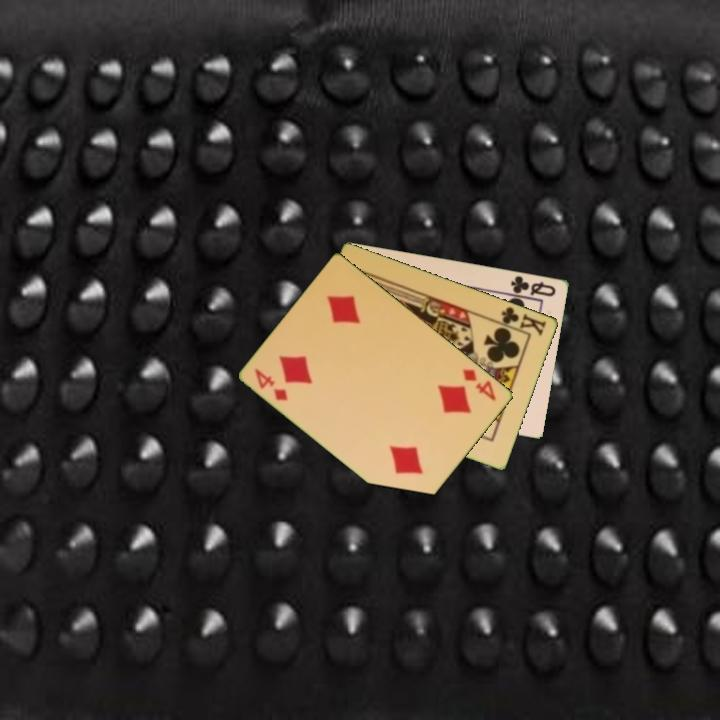4d: (459, 365, 500, 404), (251, 365, 291, 404)
Kc: (493, 303, 550, 338)
Qc: (504, 272, 559, 302)
